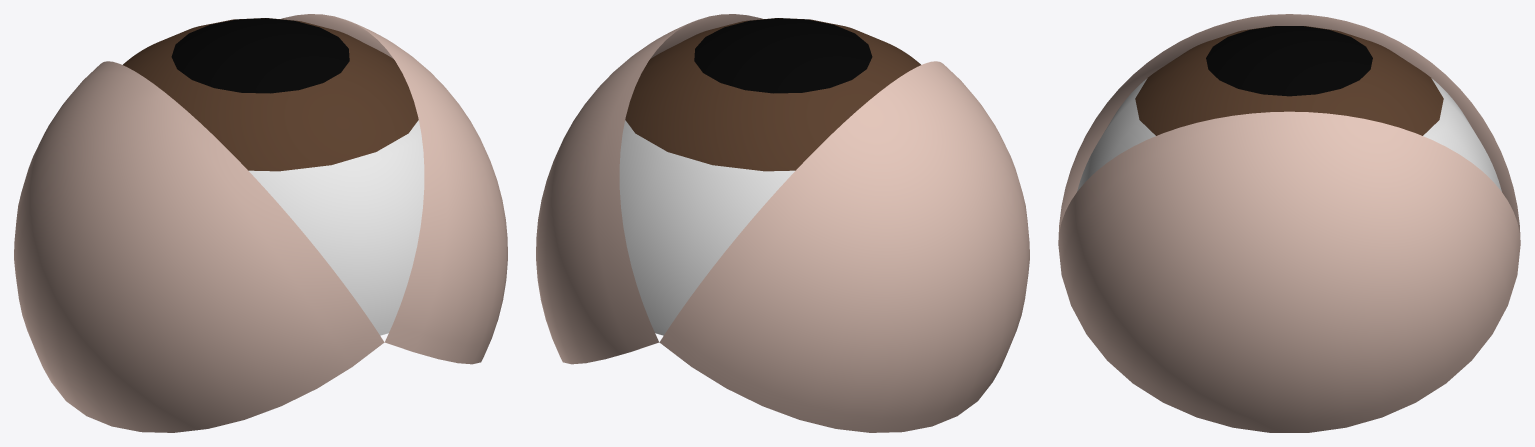
File: eye.fbx
3 views of the same model, side by side, from view 1: azimuth 30°, elevation 25°; view 2: azimuth 150°, elevation 25°; view 3: azimuth 270°, elevation 25° (orthographic). The views are drawn at different scales.
Visible parts, largest first — view 1: nurbsToPoly3, nurbsToPoly2, nurbsToPoly5, nurbsToPoly1, nurbsToPoly4; view 2: nurbsToPoly3, nurbsToPoly2, nurbsToPoly5, nurbsToPoly1, nurbsToPoly4; view 3: nurbsToPoly2, nurbsToPoly5, nurbsToPoly4, nurbsToPoly3, nurbsToPoly1.
Boxes of the visible parts, x1,y1,x2,y2 form: nurbsToPoly3: (14, 61, 384, 432); nurbsToPoly2: (280, 14, 507, 364); nurbsToPoly5: (123, 18, 418, 171); nurbsToPoly1: (248, 120, 424, 335); nurbsToPoly4: (171, 18, 349, 93); nurbsToPoly3: (659, 61, 1029, 432); nurbsToPoly2: (536, 14, 763, 364); nurbsToPoly5: (625, 18, 920, 171); nurbsToPoly1: (619, 120, 795, 335); nurbsToPoly4: (694, 18, 872, 93); nurbsToPoly2: (1058, 111, 1520, 432); nurbsToPoly5: (1135, 26, 1443, 135); nurbsToPoly4: (1206, 26, 1372, 96); nurbsToPoly3: (1058, 14, 1520, 241); nurbsToPoly1: (1077, 78, 1501, 191).
Bounding box in the file's own units: 4.21 × 3.05 × 4.22.
